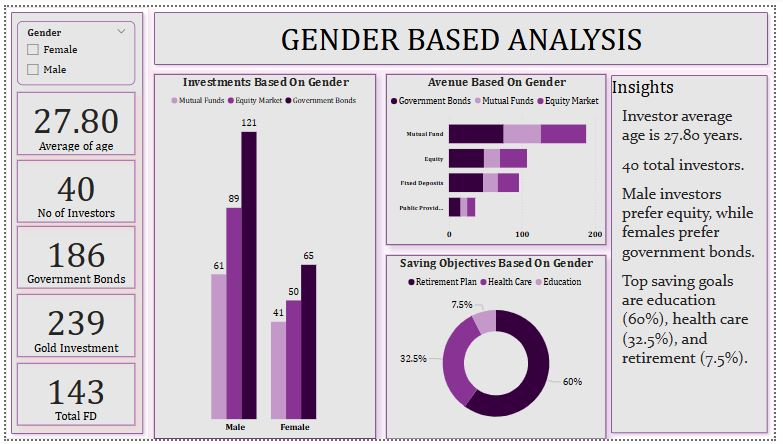

The page's visual inventory and layout, read from the dashboard file:
{"tool":"powerbi","page":{"name":"Task 2","canvas":[1280,720],"ordinal":1},"visuals":[{"type":"shape","box":[0,0,237.6,720],"z":0},{"type":"shape","box":[237.6,0,1041.1,105.1],"z":1000},{"type":"card","fields":{"Values":["Avg(Data_set 2.age)"]},"box":[18.7,141.1,197.3,105.1],"z":2000},{"type":"slicer","fields":{"Values":["Data_set 2.gender"]},"box":[18.3,23.3,198.3,106.7],"z":3000},{"type":"clusteredColumnChart","title":"Investments Based On Gender ","fields":{"Category":["Data_set 2.gender"],"Y":["Sum(Data_set 2.Mutual_Funds)","Sum(Data_set 2.Equity_Market)","Sum(Data_set 2.Government_Bonds)"]},"box":[246.2,112.3,370.1,607.7],"z":4000},{"type":"card","title":"Investors","fields":{"Values":["CountNonNull(Data_set 2.Invest_Monitor)"]},"box":[18.7,254.9,197.3,103.7],"z":5000},{"type":"card","title":"Investors","fields":{"Values":["Sum(Data_set 2.Government_Bonds)"]},"box":[18.7,365.8,197.3,103.7],"z":6000},{"type":"card","title":"Investors","fields":{"Values":["Sum(Data_set 2.Gold)"]},"box":[18.7,478.1,197.3,105.1],"z":7000},{"type":"card","title":"Investors","fields":{"Values":["Sum(Data_set 2.Fixed_Deposits)"]},"box":[18.7,593.3,197.3,103.7],"z":8000},{"type":"barChart","title":"Avenue Based On Gender ","fields":{"Category":["Data_set 2.Avenue"],"Y":["Sum(Data_set 2.Government_Bonds)","Sum(Data_set 2.Mutual_Funds)","Sum(Data_set 2.Equity_Market)"]},"box":[633.3,111.7,366.7,285],"z":9000},{"type":"donutChart","title":"Saving Objectives Based On Gender ","fields":{"Category":["Data_set 2.What are your savings objectives?"],"Y":["CountNonNull(Data_set 2.What are your savings objectives?)"]},"box":[633.3,413.3,366.7,306.7],"z":10000},{"type":"shape","title":"Insights","box":[1000,105,278.3,615],"z":11000},{"type":"textbox","box":[1021.7,160,235,536.7],"z":12000}]}

Visuals, with their boxes in screenshot pixels (x1, y1, x2, y2), scaled from the page's 1280x720 canvas onto the 783x444 screenshot:
shape: pyautogui.locateOnScreen(0, 0, 145, 443)
shape: pyautogui.locateOnScreen(145, 0, 782, 65)
card - Avg(Data_set 2.age): pyautogui.locateOnScreen(11, 87, 132, 152)
slicer - Data_set 2.gender: pyautogui.locateOnScreen(11, 14, 132, 80)
"Investments Based On Gender " clusteredColumnChart: pyautogui.locateOnScreen(151, 69, 377, 443)
"Investors" card: pyautogui.locateOnScreen(11, 157, 132, 221)
"Investors" card: pyautogui.locateOnScreen(11, 226, 132, 290)
"Investors" card: pyautogui.locateOnScreen(11, 295, 132, 360)
"Investors" card: pyautogui.locateOnScreen(11, 366, 132, 430)
"Avenue Based On Gender " barChart: pyautogui.locateOnScreen(387, 69, 612, 245)
"Saving Objectives Based On Gender " donutChart: pyautogui.locateOnScreen(387, 255, 612, 443)
"Insights" shape: pyautogui.locateOnScreen(612, 65, 782, 443)
textbox: pyautogui.locateOnScreen(625, 99, 769, 430)
